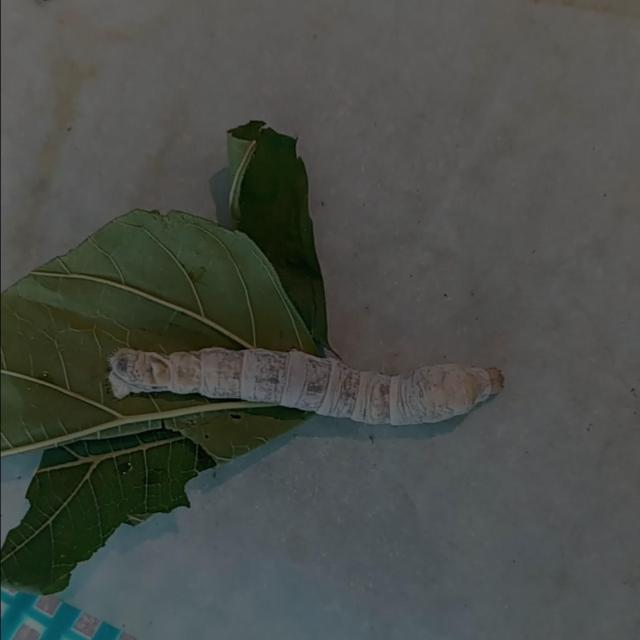Grasserie: (86, 316, 519, 459)
